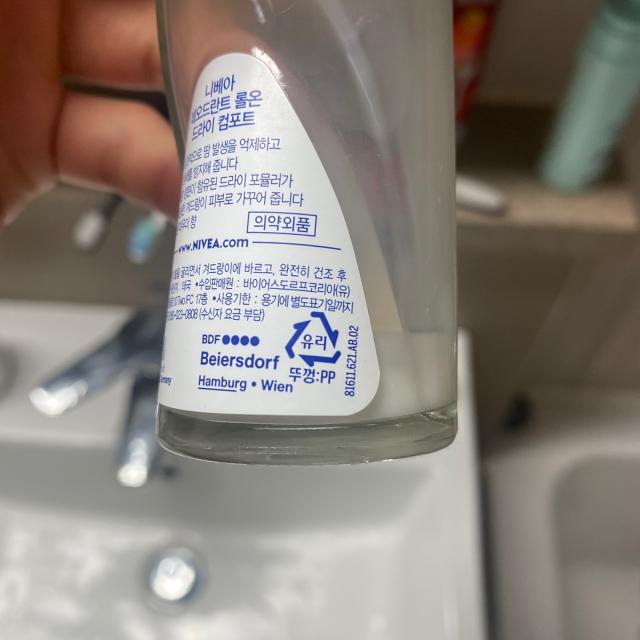Glass: (282, 308, 343, 369)
